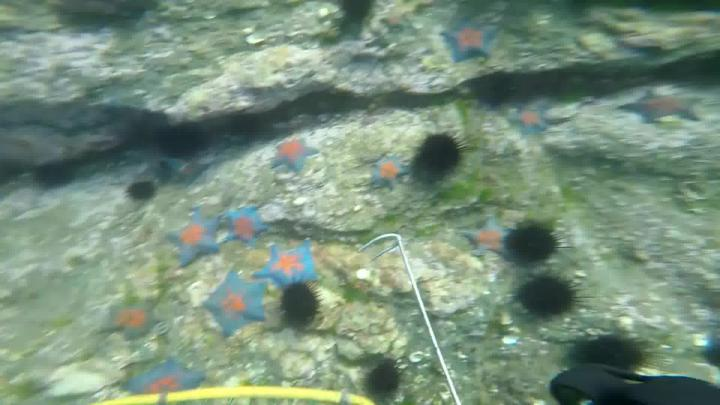echinus: (569, 331, 650, 375), (516, 276, 579, 319), (507, 223, 560, 268), (418, 132, 471, 176), (283, 284, 322, 324), (159, 128, 202, 163), (368, 357, 400, 400), (44, 163, 79, 191), (128, 183, 159, 200)
scallop: (409, 351, 425, 365)
starfish: (203, 274, 268, 338), (126, 358, 204, 405), (165, 205, 219, 265), (617, 90, 698, 126), (100, 291, 155, 342), (442, 20, 499, 64), (267, 240, 313, 291), (467, 216, 511, 259), (367, 156, 413, 190), (227, 209, 264, 246), (271, 137, 314, 168), (508, 100, 543, 137)
